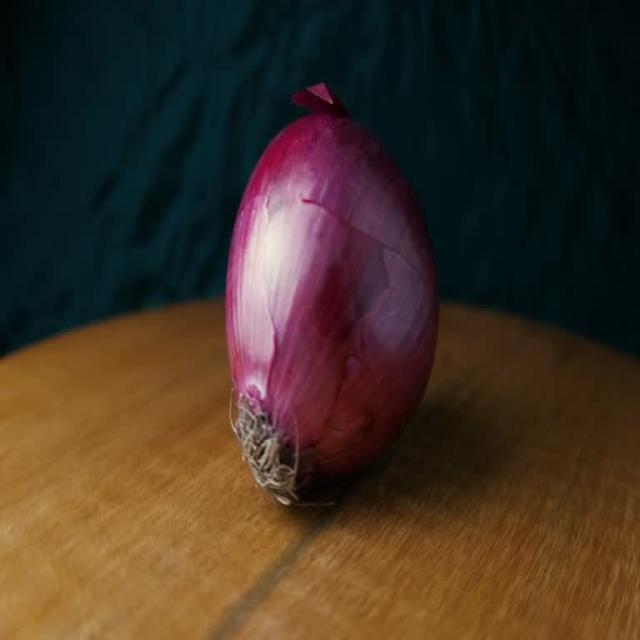onion: (228, 105, 443, 512)
